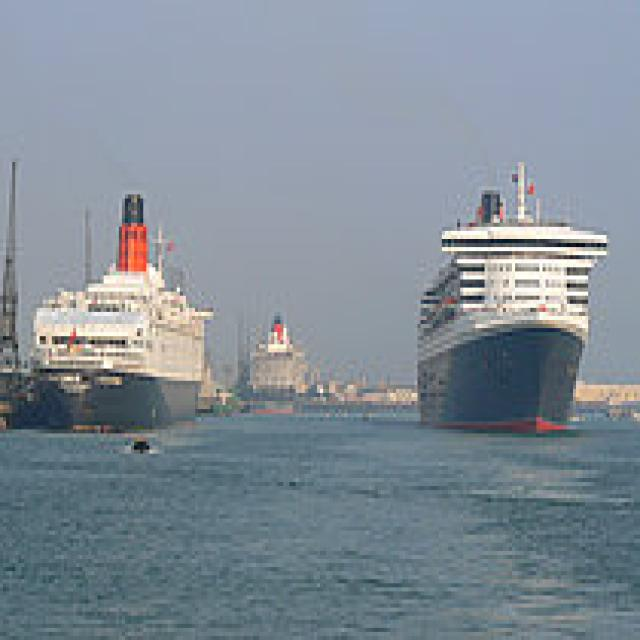Cruise: (412, 154, 610, 433), (25, 182, 214, 434), (244, 312, 308, 413)
